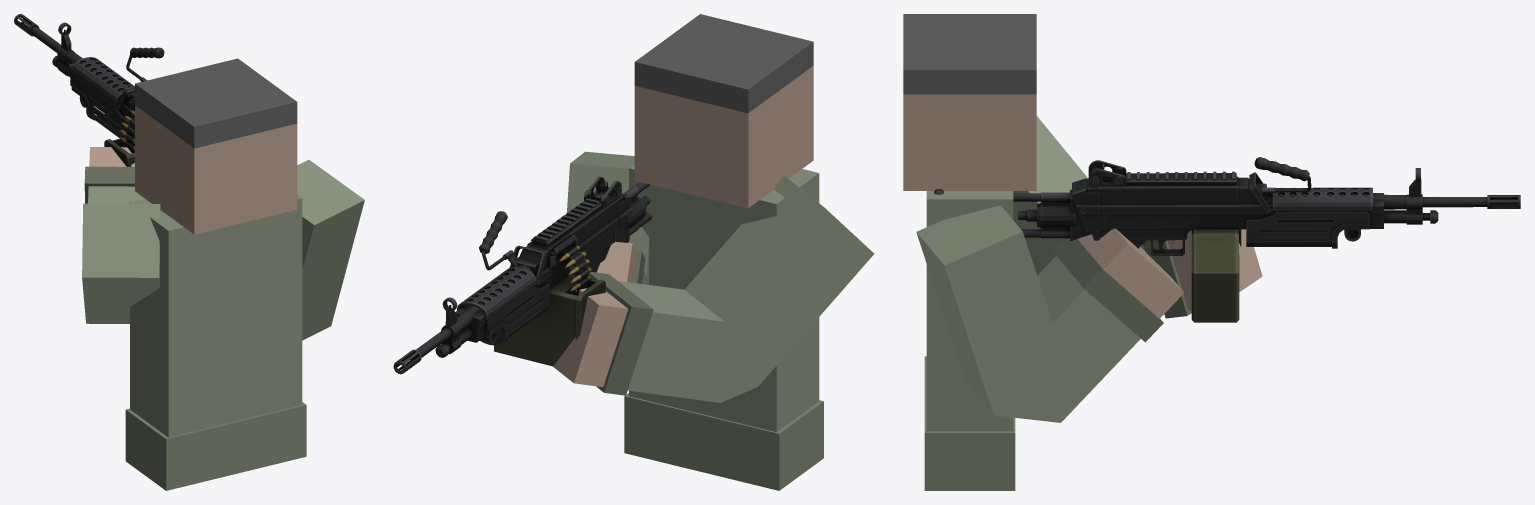
File: Light Machine Gun.gltf
The picture shows the model from 3 angles, left to right: view 1: azimuth 30°, elevation 25°; view 2: azimuth 150°, elevation 25°; view 3: azimuth 270°, elevation 25°; orthographic projection. The views are drawn at different scales.
Bounding box in the file's own units: 5.3 × 6.8 × 9.27.
Materials: 2 (1 with a texture image).
